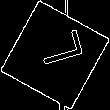L_W: (27, 33, 83, 77)
